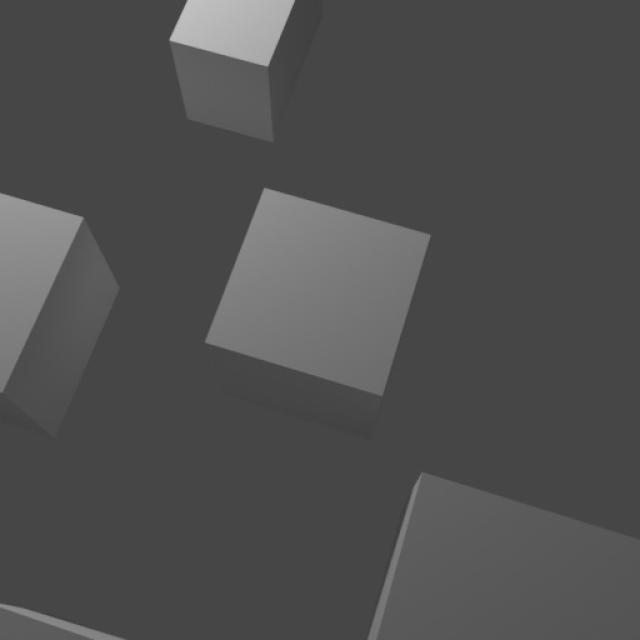Cube: (204, 187, 431, 437), (366, 475, 640, 640), (0, 194, 121, 439), (0, 604, 126, 640)
